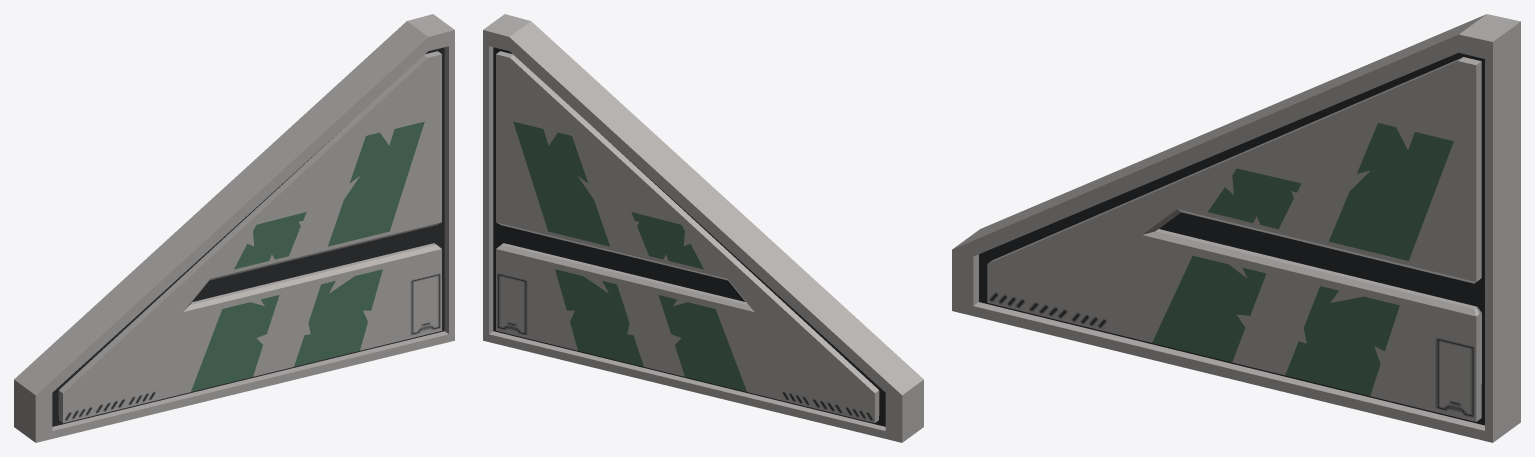
File: SM_Bld_Stairwell_Wall_01.fbx
3 renders of one model, left to right at view 1: azimuth 30°, elevation 25°; view 2: azimuth 150°, elevation 25°; view 3: azimuth 330°, elevation 25°, orthographic. The views are drawn at different scales.
Parts seen in each view (by area): view 1: SM_Bld_Stairwell_Wall_01; view 2: SM_Bld_Stairwell_Wall_01; view 3: SM_Bld_Stairwell_Wall_01.
Boxes of the visible parts, bbox=[...] form: SM_Bld_Stairwell_Wall_01: bbox=[14, 14, 454, 442]; SM_Bld_Stairwell_Wall_01: bbox=[483, 14, 923, 442]; SM_Bld_Stairwell_Wall_01: bbox=[952, 14, 1520, 442].
Bounding box in the file's own units: 250 × 177 × 22.5.
